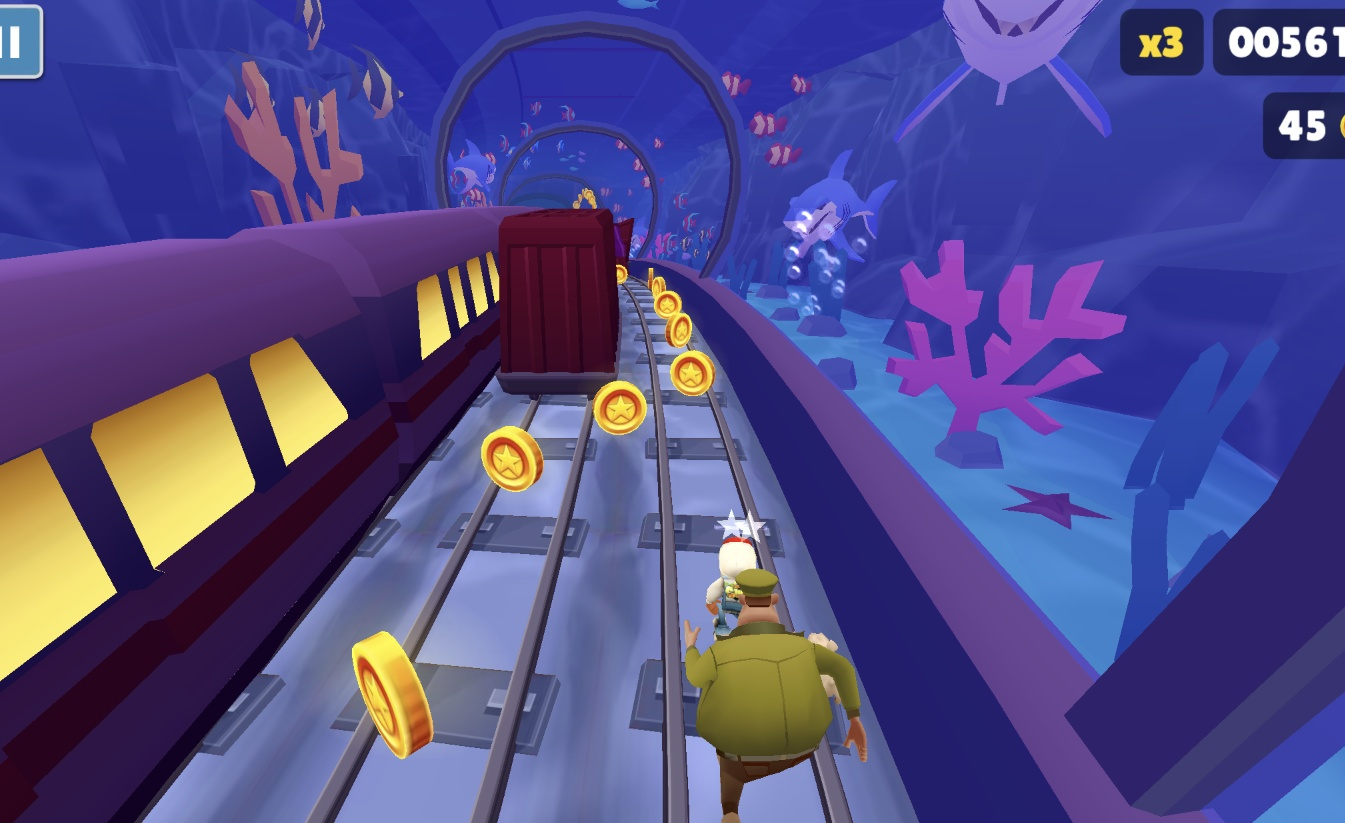train: (0, 208, 529, 823), (492, 207, 623, 402), (610, 212, 638, 280)
